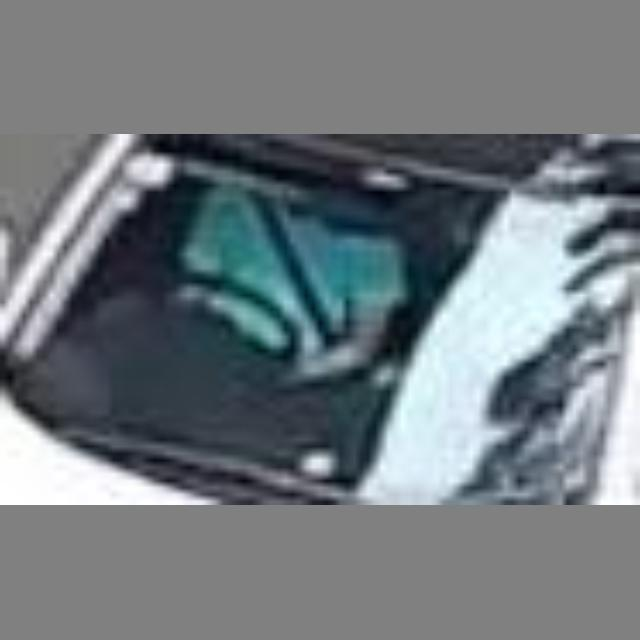pakai: (151, 168, 406, 389)
